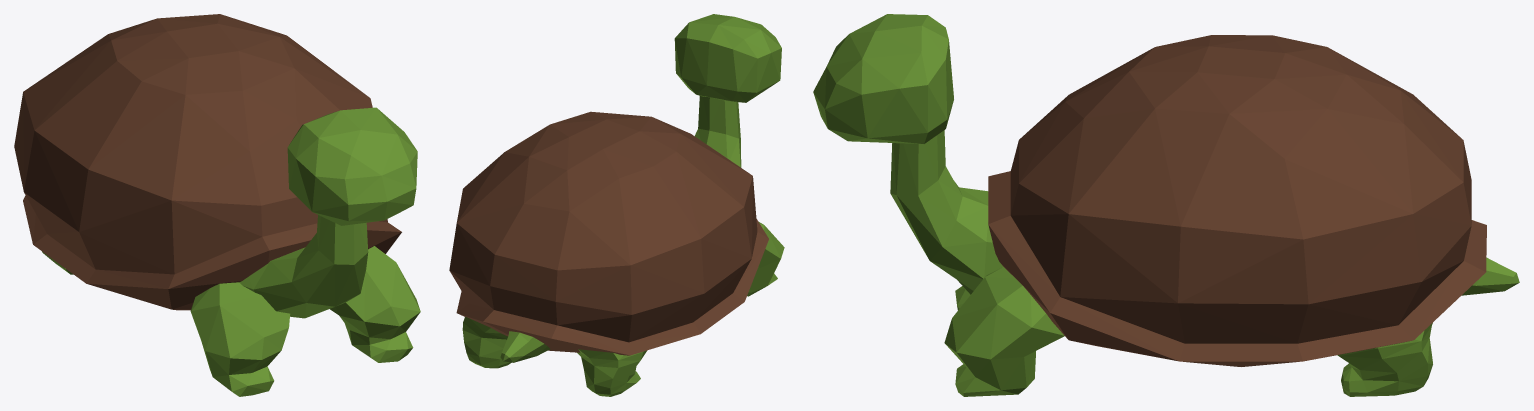
Rendered from Jabuti.fbx.
3 renders of one model, left to right at view 1: azimuth 30°, elevation 25°; view 2: azimuth 150°, elevation 25°; view 3: azimuth 270°, elevation 25°, orthographic. The views are drawn at different scales.
Visible parts, largest first — view 1: Carapaca, Cabeca, PernasFrente; view 2: Carapaca, Cabeca, PernasAtras, PernasFrente, Rabo; view 3: Carapaca, Cabeca, PernasFrente, PernasAtras, Rabo.
Part boxes in pixels (bbox=[...]): Carapaca: bbox=[14, 14, 401, 310]; Cabeca: bbox=[239, 107, 417, 318]; PernasFrente: bbox=[190, 246, 420, 396]; Carapaca: bbox=[449, 111, 768, 355]; Cabeca: bbox=[674, 14, 781, 167]; PernasAtras: bbox=[462, 317, 647, 396]; PernasFrente: bbox=[747, 222, 784, 296]; Rabo: bbox=[500, 331, 550, 362]; Carapaca: bbox=[988, 35, 1486, 366]; Cabeca: bbox=[813, 14, 1003, 290]; PernasFrente: bbox=[944, 267, 1064, 396]; PernasAtras: bbox=[1337, 323, 1432, 396]; Rabo: bbox=[1462, 257, 1519, 295].
Size of the model in its own units: 112 by 99.94 by 196.
